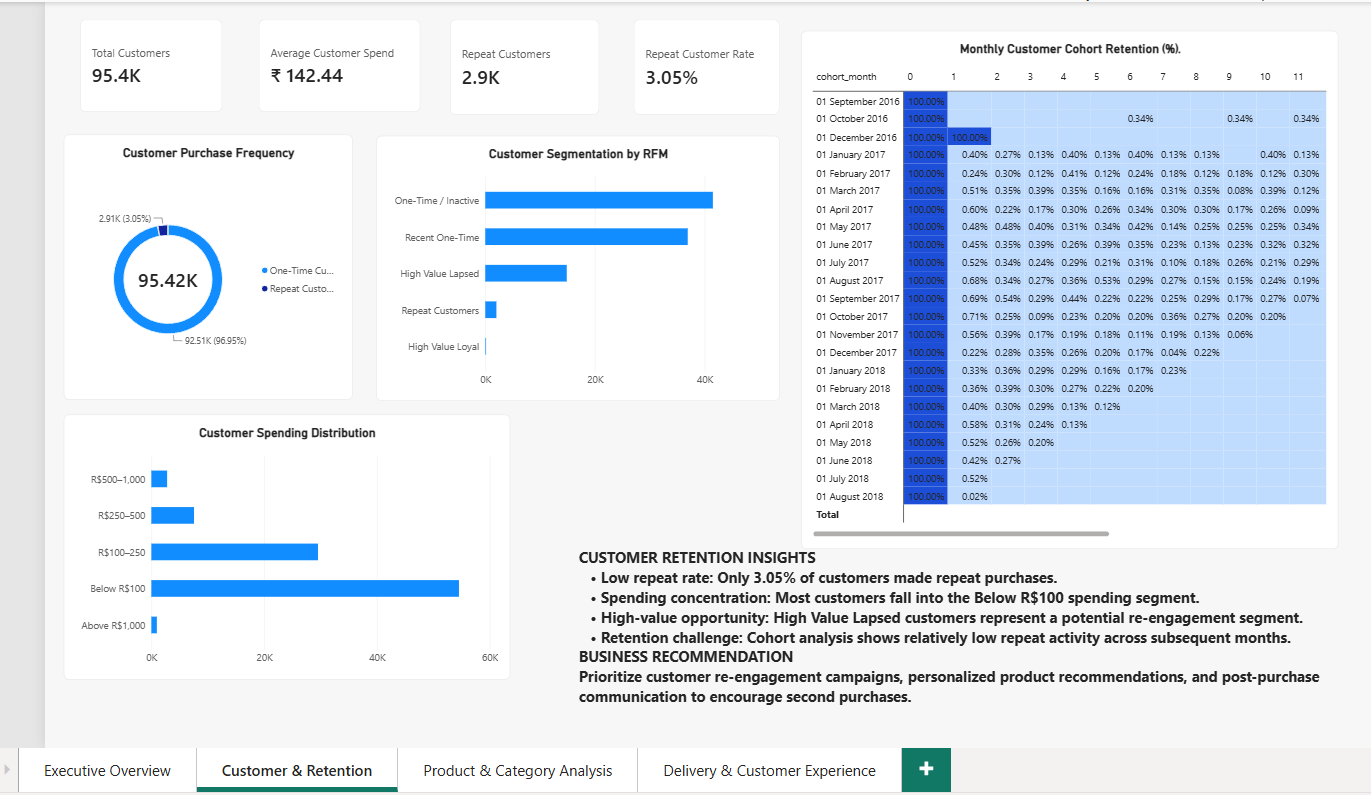

What the dashboard file says about the page in this screenshot:
{"tool":"powerbi","page":{"name":"Customer & Retention","canvas":[1920,1080],"ordinal":1},"visuals":[{"type":"cardVisual","fields":{"Data":["public vw_category_performance.Total Customers"]},"box":[50,25,206,134],"z":0},{"type":"cardVisual","fields":{"Data":["public vw_category_performance.Repeat Customers"]},"box":[586.4,25,216,138],"z":1000},{"type":"cardVisual","fields":{"Data":["public vw_category_performance.Repeat Customer Rate"]},"box":[852.3,25,211.4,138.6],"z":2000},{"type":"cardVisual","fields":{"Data":["public vw_category_performance.Average Customer Spend"]},"box":[309.1,25,234,134],"z":3000},{"type":"donutChart","title":"Customer Purchase Frequency","fields":{"Category":["public vw_customer_summary.customer_type"],"Y":["public vw_category_performance.Customer Count"]},"box":[27.8,192.4,418.2,384.1],"z":4000},{"type":"clusteredBarChart","title":"Customer Segmentation by RFM","fields":{"Category":["public vw_customer_rfm.rfm_segment"],"Y":["public vw_category_performance.RFM Customer Count"]},"box":[479.5,193.2,584.1,384.1],"z":5000},{"type":"clusteredBarChart","title":"Customer Spending Distribution","fields":{"Category":["public vw_customer_summary.Spending Segment"],"Y":["CountNonNull(public vw_customer_summary.Spending Segment)"]},"box":[27.3,597.7,646,384],"z":6000},{"type":"pivotTable","title":"Monthly Customer Cohort Retention (%).","fields":{"Columns":["public vw_customer_cohort.cohort_index"],"Rows":["public vw_customer_cohort.cohort_month"],"Values":["public vw_category_performance.Cohort Retention %"]},"box":[1095.5,40.9,777.3,750],"z":7000},{"type":"textbox","box":[772.7,788.6,1120.5,263.6],"z":8000}]}

Visuals, with their boxes on the page's 1920x1080 design canvas (x1, y1, x2, y2). These are canvas units, not pixel positions in the 1371x795 screenshot, which may show the page scaled, cropped or inside an application window:
cardVisual - public vw_category_performance.Total Customers: box(50, 25, 256, 159)
cardVisual - public vw_category_performance.Repeat Customers: box(586, 25, 802, 163)
cardVisual - public vw_category_performance.Repeat Customer Rate: box(852, 25, 1064, 164)
cardVisual - public vw_category_performance.Average Customer Spend: box(309, 25, 543, 159)
"Customer Purchase Frequency" donutChart: box(28, 192, 446, 576)
"Customer Segmentation by RFM" clusteredBarChart: box(480, 193, 1064, 577)
"Customer Spending Distribution" clusteredBarChart: box(27, 598, 673, 982)
"Monthly Customer Cohort Retention (%)." pivotTable: box(1096, 41, 1873, 791)
textbox: box(773, 789, 1893, 1052)
